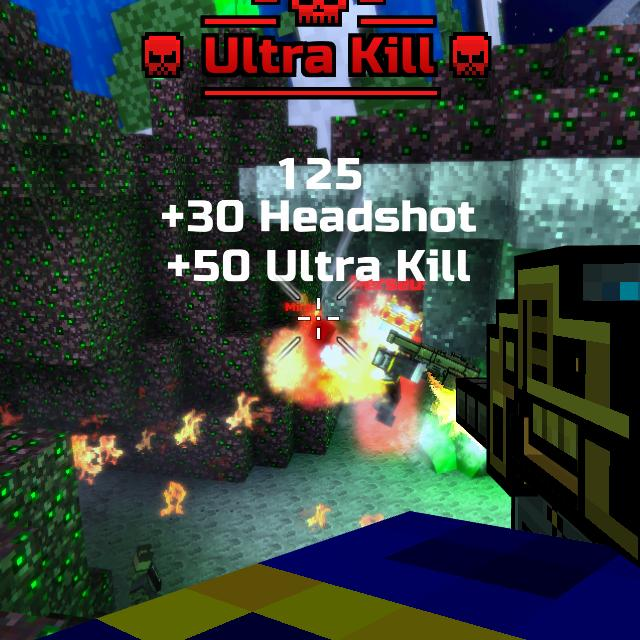Enemy: (362, 307, 421, 427)
